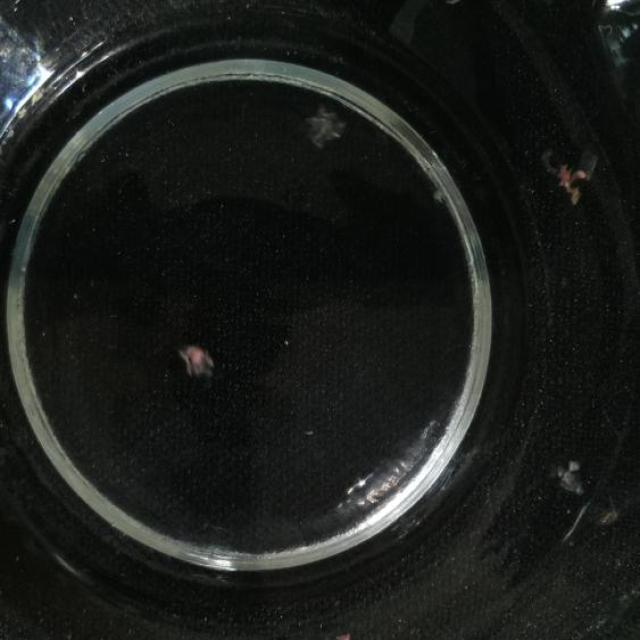fiber: (534, 147, 602, 206), (300, 99, 350, 151), (549, 454, 589, 497), (175, 342, 219, 381), (595, 494, 632, 526), (441, 0, 485, 10)
